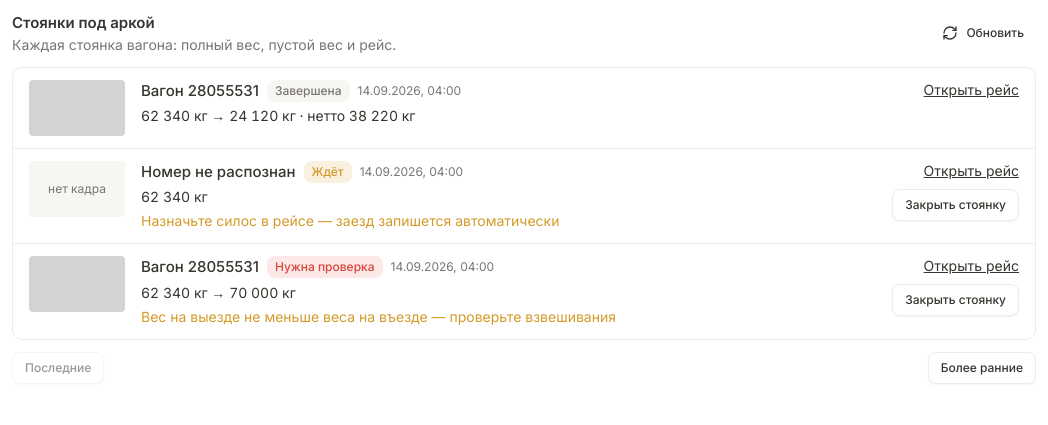
Test: WagonArchStops › renders a dismiss error inline in the row
This screenshot has width=1048, height=425.
What coordinates should you click on to do the following:
click the button "Закрыть стоянку" in the row of "→ 70 000 кг"
I would click on:
 (956, 300)
Its box is 892,284 -> 1019,316.
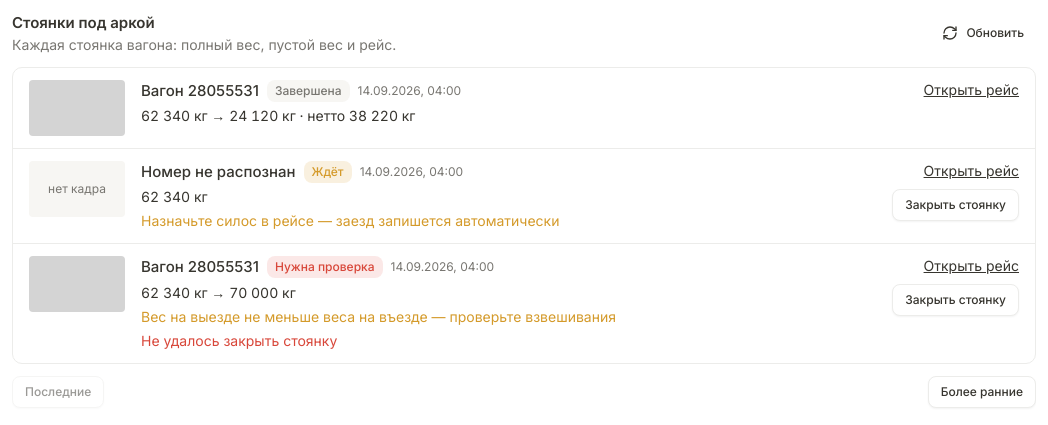
Result: the message reads "Не удалось закрыть стоянку" at 141,332 -> 337,348
